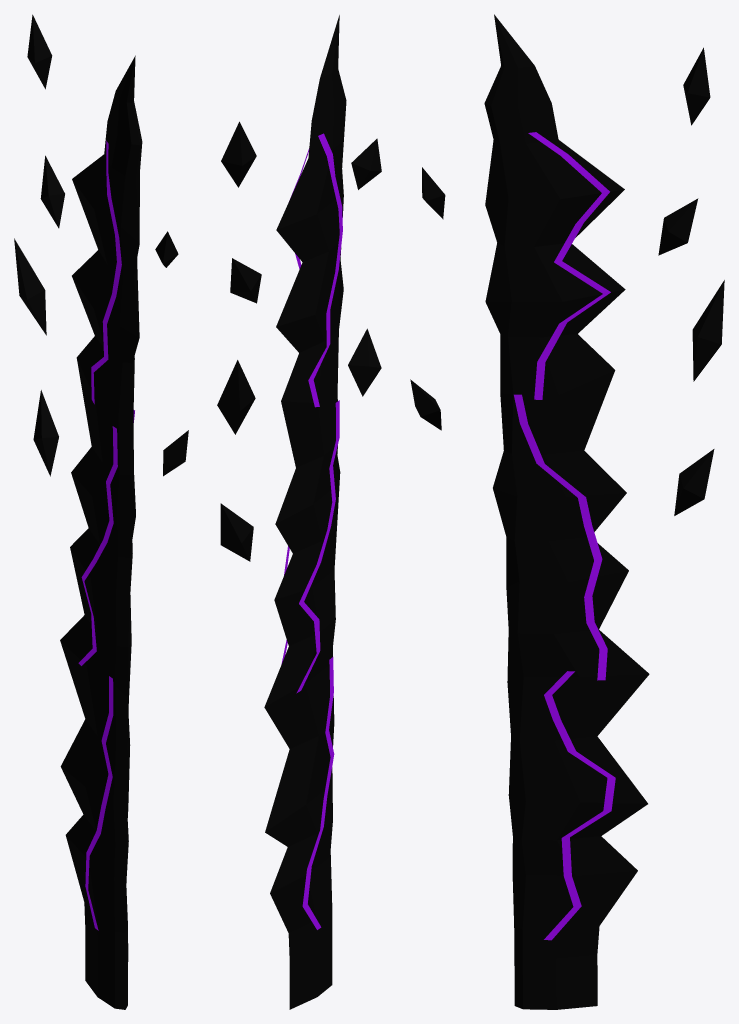
File: blade_void.fbx
The picture shows the model from 3 angles, left to right: view 1: azimuth 30°, elevation 25°; view 2: azimuth 150°, elevation 25°; view 3: azimuth 270°, elevation 25°; orthographic projection. The views are drawn at different scales.
Parts seen in each view (by area): view 1: blade_void_blade, blade_void_glow; view 2: blade_void_blade, blade_void_glow; view 3: blade_void_blade, blade_void_glow.
Part boxes in pixels (x1,y1,x2,y2): blade_void_blade: (14, 14, 188, 1009); blade_void_glow: (78, 140, 134, 930); blade_void_blade: (217, 15, 381, 1009); blade_void_glow: (281, 133, 342, 929); blade_void_blade: (410, 14, 724, 1009); blade_void_glow: (514, 132, 615, 940).
Bounding box in the file's own units: 13.65 × 422 × 121.
